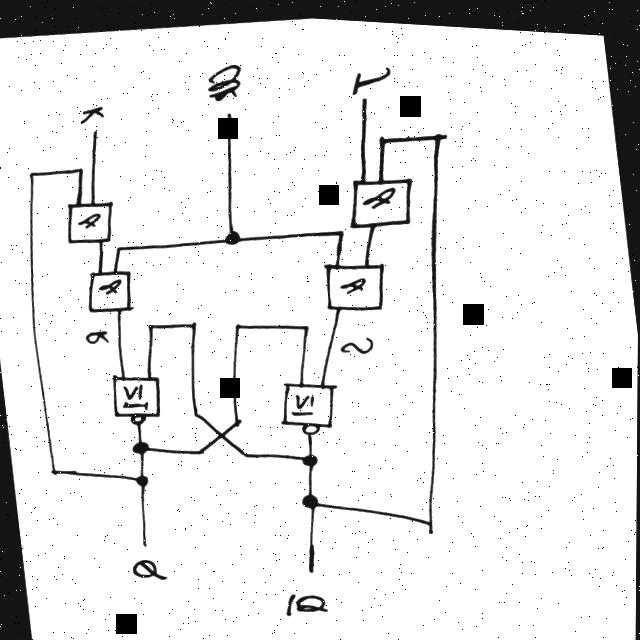crossover: (214, 425, 230, 438)
junction: (301, 488, 321, 505), (222, 226, 243, 242), (300, 447, 320, 463), (131, 437, 151, 452), (134, 471, 151, 485), (424, 511, 437, 529), (430, 125, 448, 137), (375, 128, 390, 140), (194, 443, 208, 454), (239, 445, 253, 456), (232, 413, 245, 424), (25, 168, 39, 178), (300, 318, 312, 328), (191, 406, 203, 416), (334, 223, 346, 232), (188, 317, 199, 326), (146, 319, 156, 328), (233, 318, 243, 327), (49, 466, 59, 474), (75, 164, 85, 171), (115, 243, 123, 249)
terminal: (304, 560, 318, 571), (223, 105, 236, 116), (358, 90, 370, 100), (89, 126, 101, 134), (140, 539, 151, 547)
text: (202, 58, 246, 100), (347, 58, 396, 91), (284, 586, 330, 613), (337, 329, 377, 351), (131, 554, 166, 579), (78, 103, 106, 122), (83, 327, 112, 344)
